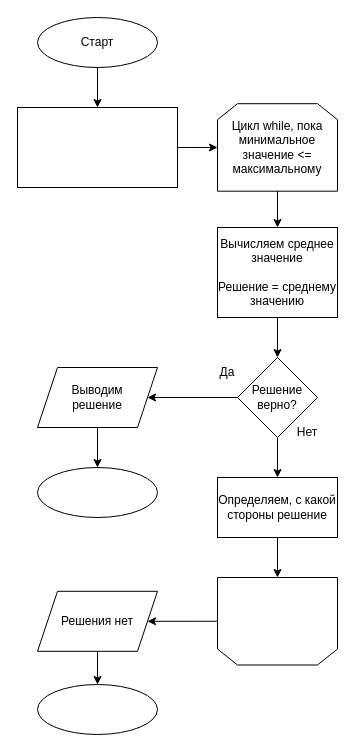
This 355x752 diagram has some shape labels left out. The shapes that lost their labels are listed below. From the top down, each one's centre as x and y in pixels, then its label:
pixel 97 147: Вычисляем минимальный и максимальный индекс
pixel 97 492: Останов.
pixel 277 620: Передвигаем границу диапазона в найденную ранее сторону
pixel 97 709: Конец
